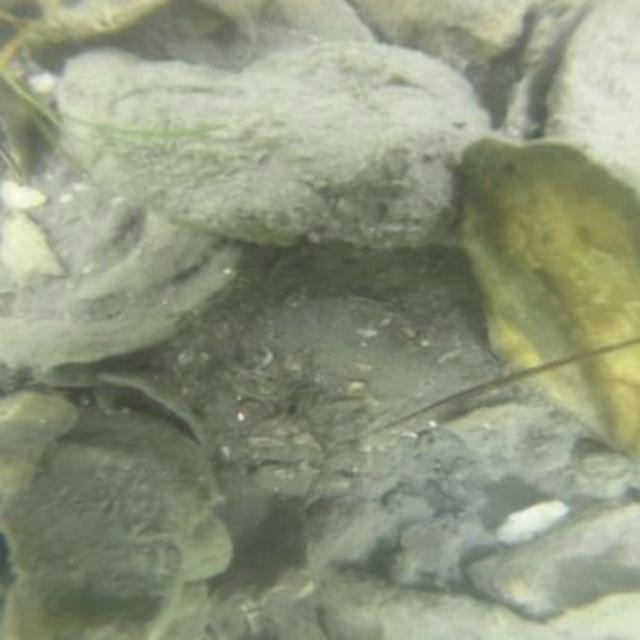Oyster-Closed: (49, 39, 494, 250), (452, 135, 640, 468), (10, 442, 197, 602), (469, 496, 640, 622), (322, 569, 589, 640), (542, 2, 640, 193), (348, 0, 548, 70)
Oyster-Open: (74, 377, 212, 463)
